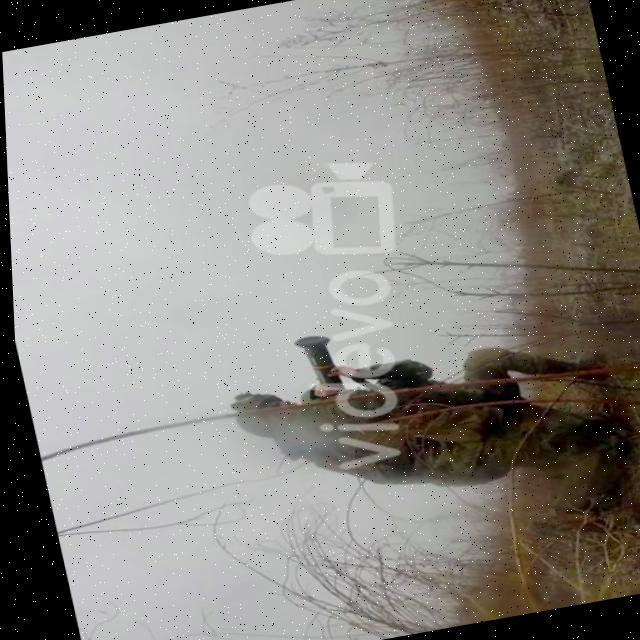rocket: (277, 326, 351, 400)
